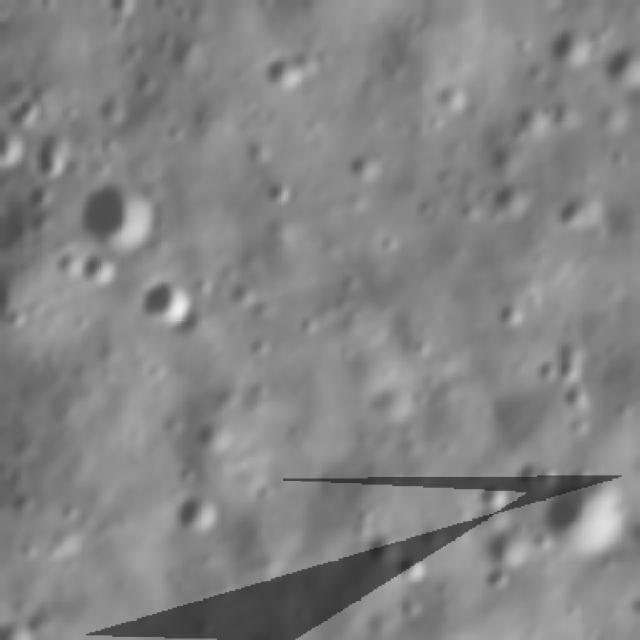crater: (535, 459, 640, 559), (68, 168, 170, 254), (252, 33, 334, 96), (537, 14, 615, 71), (130, 268, 202, 326), (162, 482, 230, 540), (506, 433, 560, 498), (26, 120, 86, 178), (484, 518, 544, 576), (480, 176, 537, 233), (554, 179, 608, 235), (359, 522, 413, 573), (188, 409, 246, 456), (42, 241, 92, 294), (493, 282, 536, 338), (597, 38, 640, 91), (77, 245, 126, 289), (341, 148, 390, 190), (395, 543, 442, 586), (542, 92, 584, 139), (432, 81, 477, 116), (266, 168, 303, 210), (0, 606, 42, 640), (477, 561, 514, 597), (0, 118, 25, 170)
